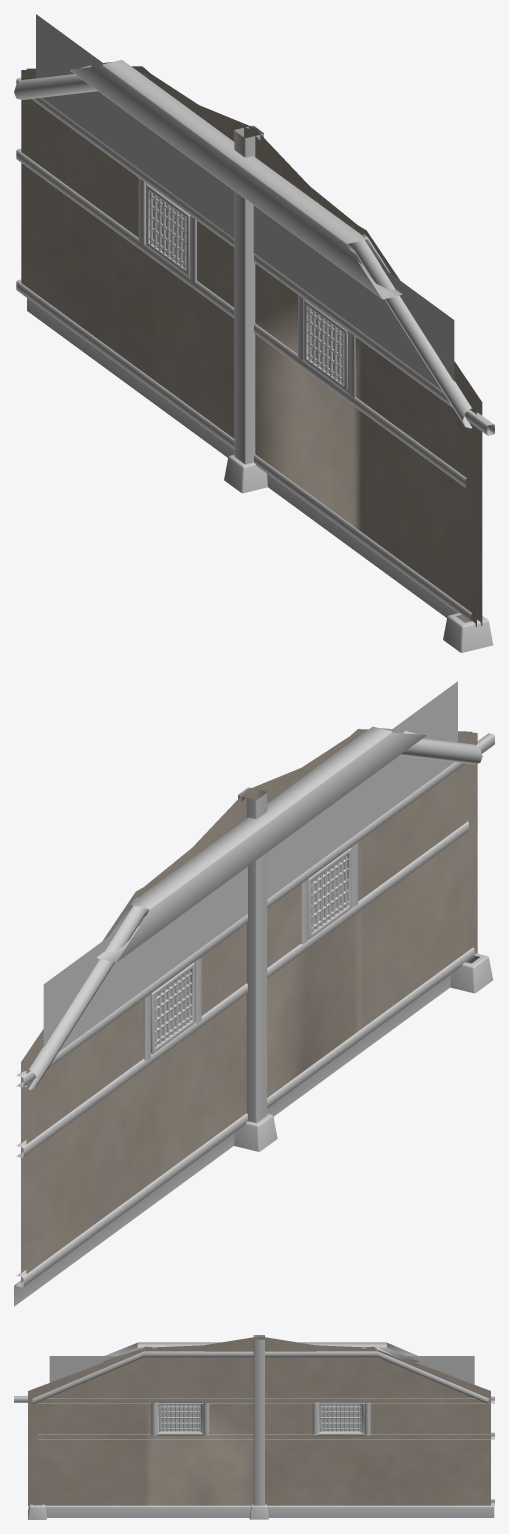
Rendered from WoodcutHanok_X.fbx.
3 views of the same model, one above another, from view 1: azimuth 30°, elevation 25°; view 2: azimuth 150°, elevation 25°; view 3: azimuth 270°, elevation 25° (orthographic). The views are drawn at different scales.
Parts seen in each view (by area): view 1: PlasterWall_015.001, WoodOil.001, WoodChang.001, StoneCastle003.001, WindowFrame.001, Glass_015.001; view 2: PlasterWall_015.001, WoodOil.001, WoodChang.001, StoneCastle003.001, WindowFrame.001, Glass_015.001; view 3: PlasterWall_015.001, WoodOil.001, StoneCastle003.001, WoodChang.001, WindowFrame.001, Glass_015.001.
Part boxes in pixels (<box>): PlasterWall_015.001: <box>21,66,482,626</box>; WoodOil.001: <box>14,60,494,621</box>; WoodChang.001: <box>36,14,454,390</box>; StoneCastle003.001: <box>27,298,493,652</box>; WindowFrame.001: <box>149,191,344,385</box>; Glass_015.001: <box>153,193,341,382</box>; PlasterWall_015.001: <box>21,729,477,1282</box>; WoodOil.001: <box>16,726,494,1287</box>; WoodChang.001: <box>43,681,457,1052</box>; StoneCastle003.001: <box>14,953,492,1306</box>; WindowFrame.001: <box>155,855,348,1047</box>; Glass_015.001: <box>157,857,344,1044</box>; PlasterWall_015.001: <box>28,1336,490,1505</box>; WoodOil.001: <box>14,1335,494,1506</box>; StoneCastle003.001: <box>28,1504,494,1519</box>; WoodChang.001: <box>49,1356,474,1384</box>; WindowFrame.001: <box>159,1404,361,1431</box>; Glass_015.001: <box>161,1404,360,1430</box>.
Size of the model in its own units: 48.43 by 424 by 1030.
